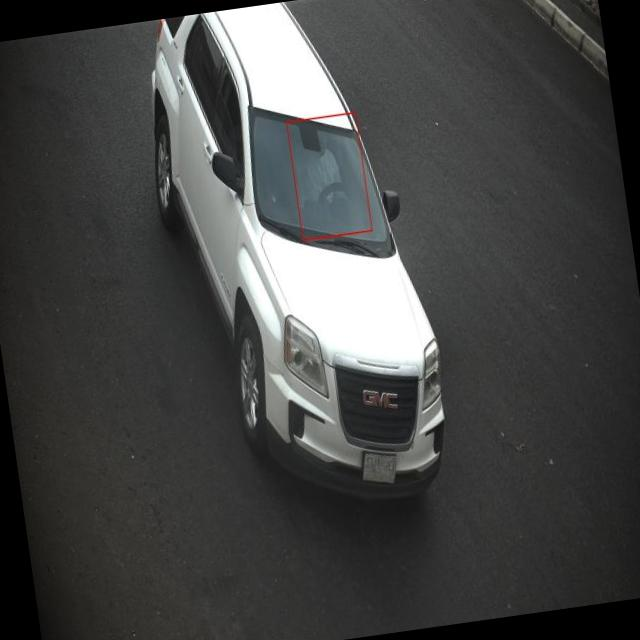person_without_seatbelt: (292, 121, 367, 237)
